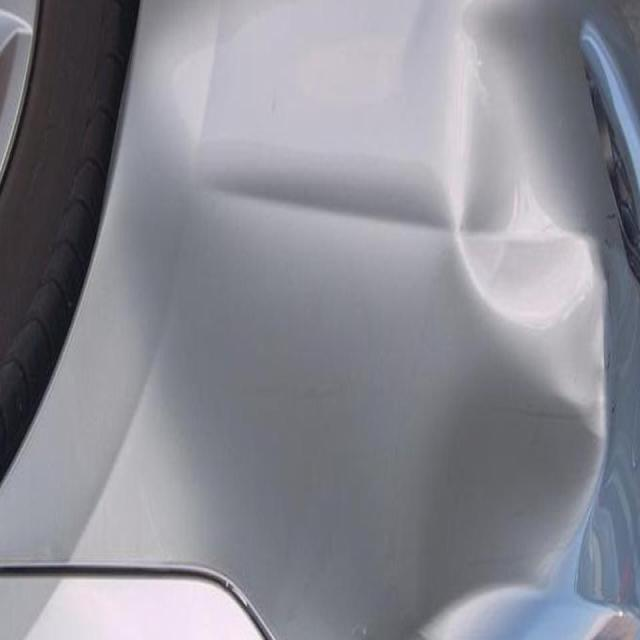dent: (225, 57, 622, 640)
